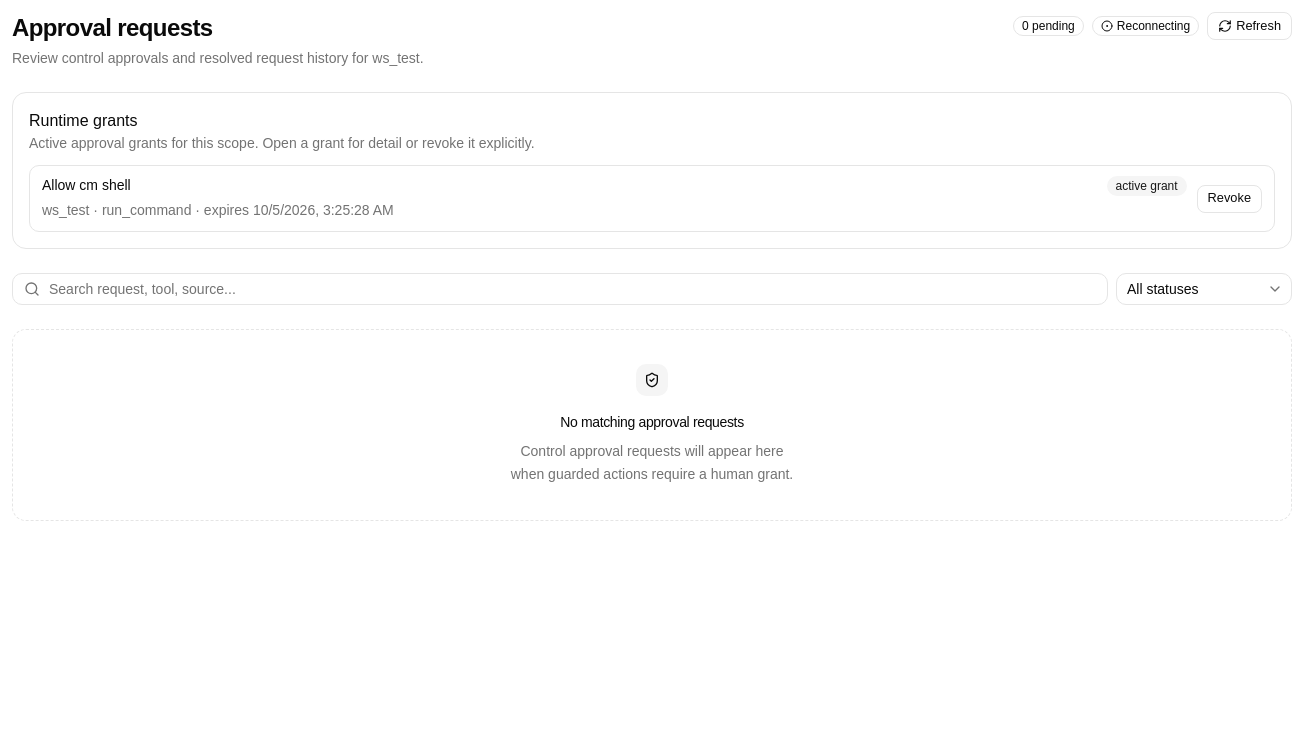
Scenario: RequestsPage › shows active runtime grants and revokes through the canonical grant endpoint
This screenshot has width=1304, height=732.
Check: the text "Runtime grants" is shown, box [29,112,138,129]
Check: the text "Allow cm shell" is shown, box [42,176,131,196]
Click the button "Revoke".
click(1229, 198)  # box [1197,184,1262,212]
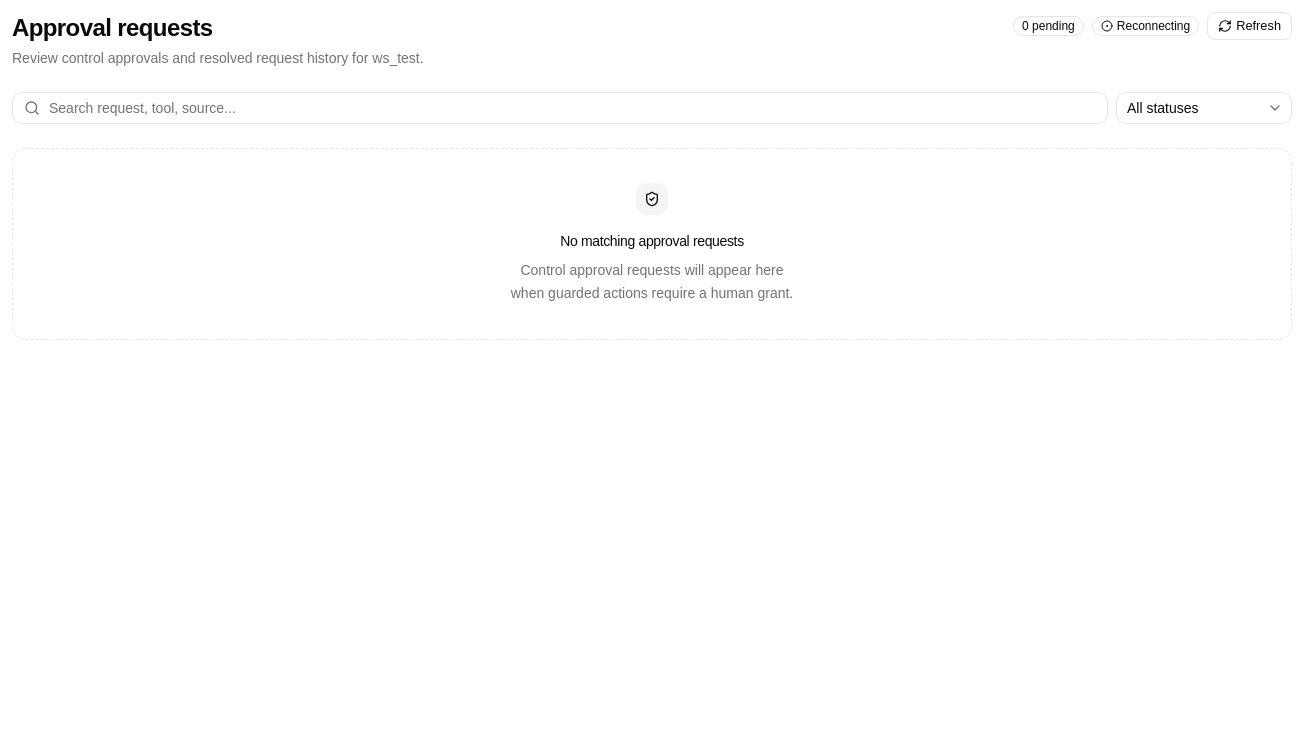
Check: the text "Allow cm shell" is gone
